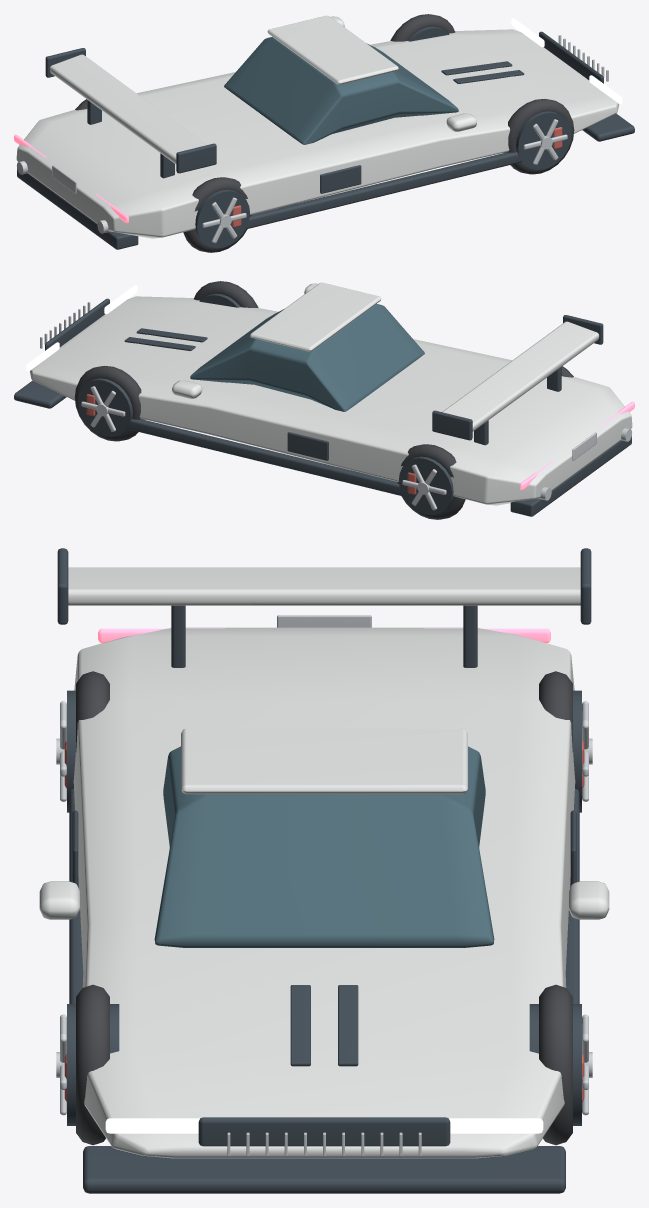
File: SM_sup_apex.glb
3 renders of one model, top to bottom at view 1: azimuth 30°, elevation 25°; view 2: azimuth 150°, elevation 25°; view 3: azimuth 270°, elevation 25°, orthographic. The views are drawn at different scales.
Visible parts, largest first — view 1: SM_sup_apex; view 2: SM_sup_apex; view 3: SM_sup_apex.
Boxes of the visible parts, x1,y1,x2,y2 form: SM_sup_apex: (14,14,634,252); SM_sup_apex: (14,281,634,519); SM_sup_apex: (39,548,609,1193).
Size of the model in its own units: 4.96 by 1.08 by 2.33.
